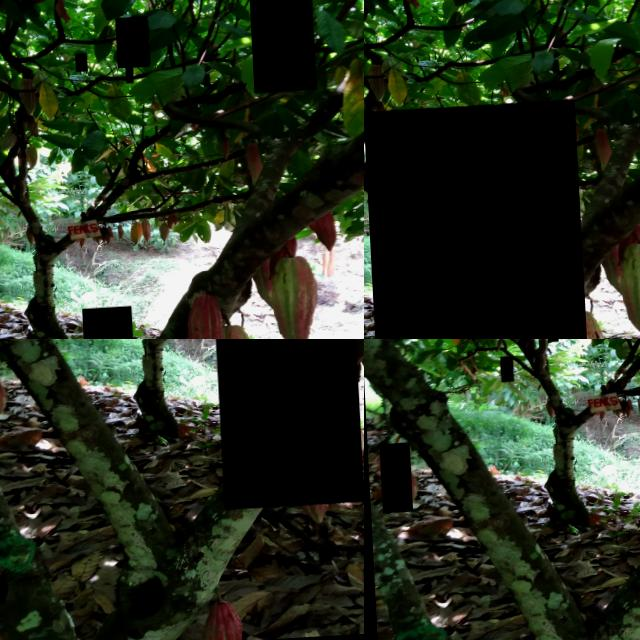Fitoftora: (364, 104, 585, 339)
Monilia: (208, 339, 358, 512)
Sana: (248, 0, 314, 98), (376, 443, 409, 513), (114, 20, 149, 72), (77, 309, 130, 339), (497, 358, 511, 384), (74, 56, 86, 75), (124, 70, 132, 87)
